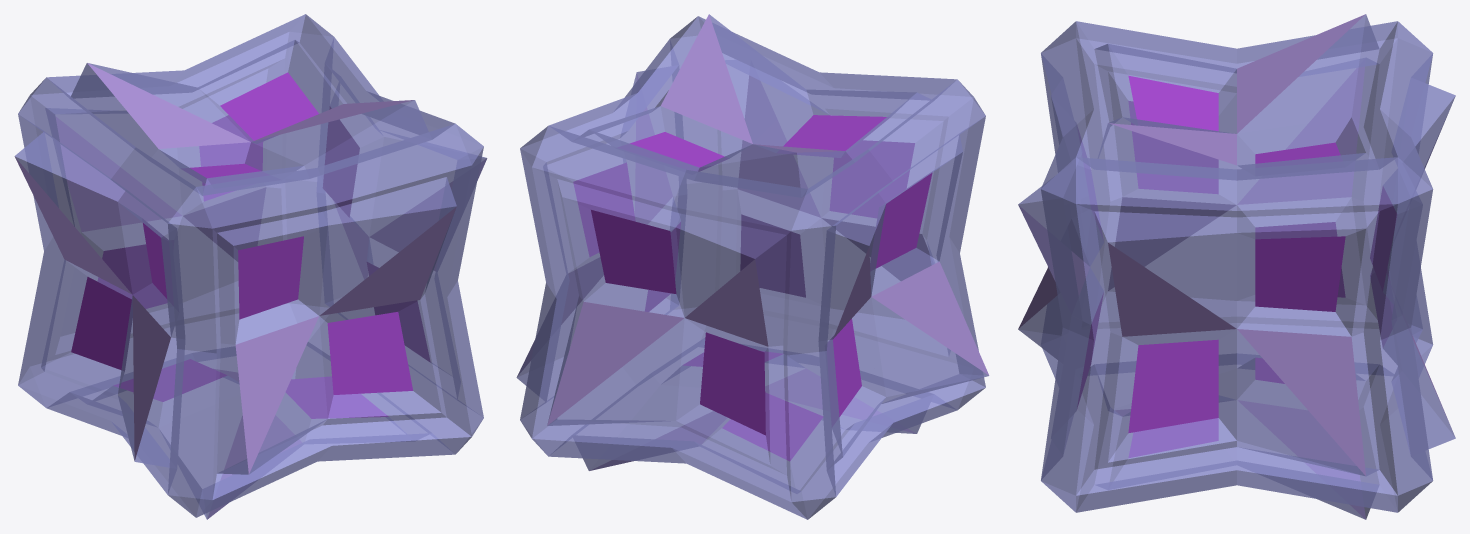
Rendered from VoX CuBe1.fbx.
3 renders of one model, left to right at view 1: azimuth 30°, elevation 25°; view 2: azimuth 150°, elevation 25°; view 3: azimuth 270°, elevation 25°, orthographic. The views are drawn at different scales.
Visible parts, largest first — view 1: Cube; view 2: Cube; view 3: Cube.
Boxes of the visible parts, bbox=[...] form: Cube: bbox=[14, 14, 487, 519]; Cube: bbox=[516, 14, 989, 519]; Cube: bbox=[1018, 14, 1455, 519].
Bounding box in the file's own units: 468 × 468 × 468.
